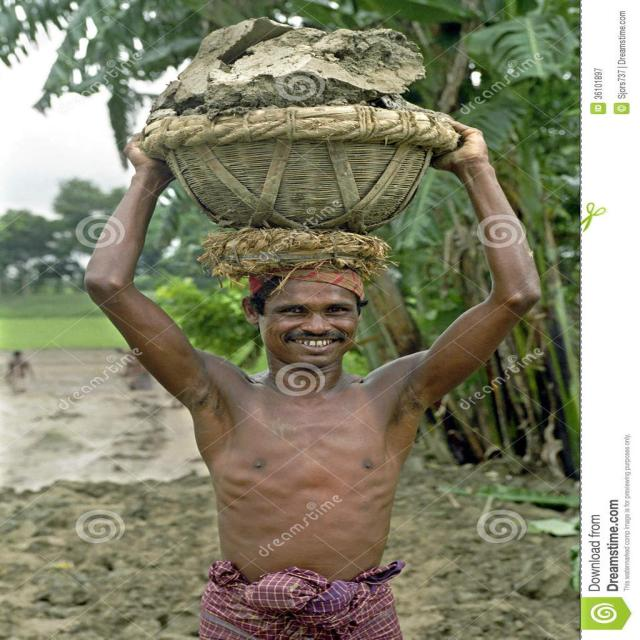Face: (264, 276, 370, 372)
